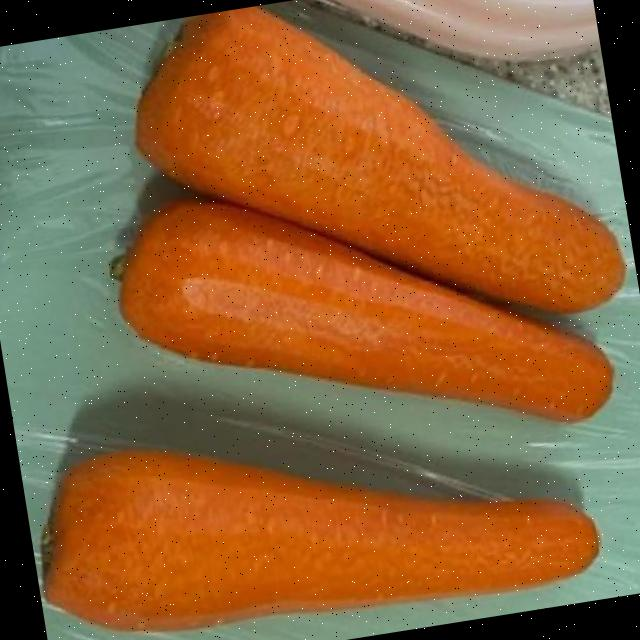carrot: (136, 6, 624, 313), (121, 200, 611, 422), (44, 450, 598, 631)
